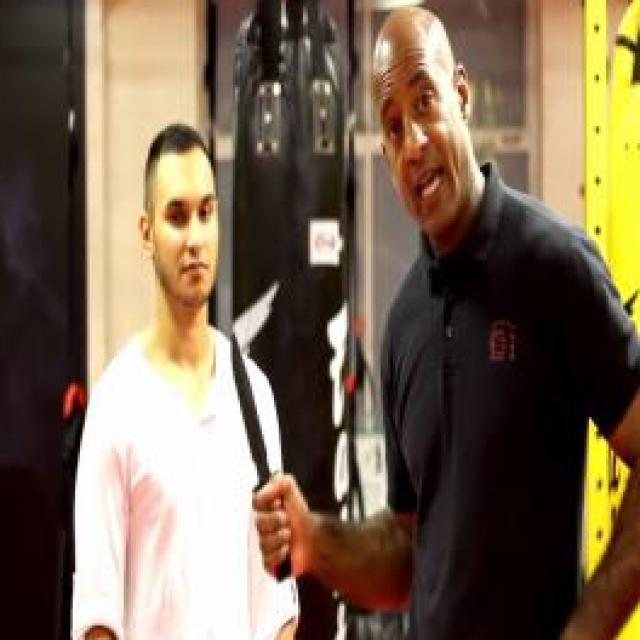knife: (223, 315, 302, 595)
